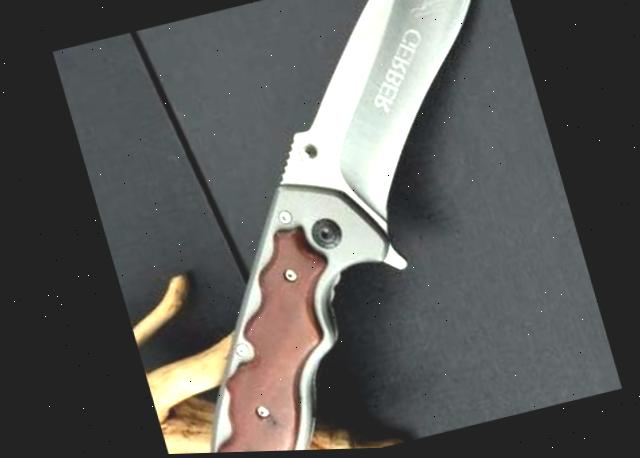pocket-knife: (68, 0, 619, 456)
